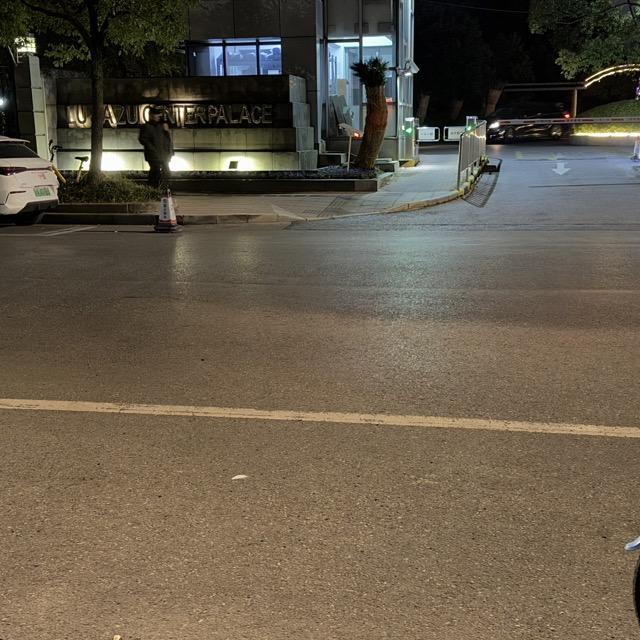curb: (370, 190, 463, 214), (178, 213, 289, 225), (41, 213, 155, 224), (49, 203, 157, 214)
